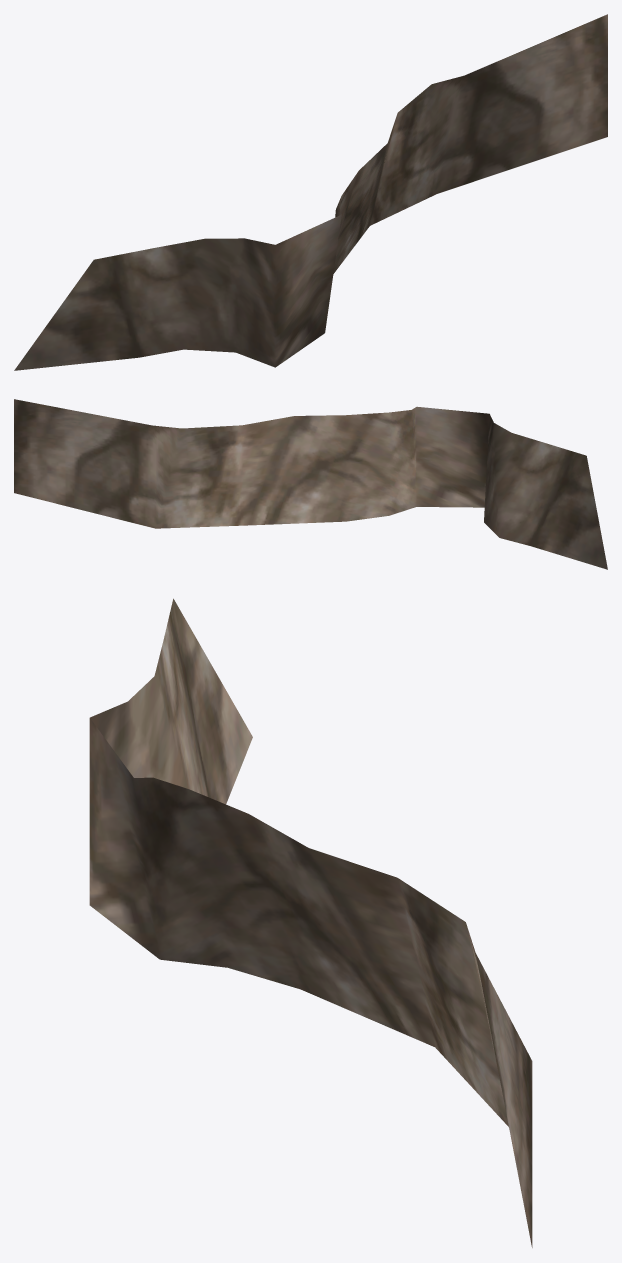
Rendered from EKH_THRONE_PS_TH_RIVER_TRIM_004.fbx.
The picture shows the model from 3 angles, top to bottom: view 1: azimuth 30°, elevation 25°; view 2: azimuth 150°, elevation 25°; view 3: azimuth 270°, elevation 25°; orthographic projection. The views are drawn at different scales.
Parts seen in each view (by area): view 1: EKH_THRONE_PS_TH_RIVER_TRIM_004; view 2: EKH_THRONE_PS_TH_RIVER_TRIM_004; view 3: EKH_THRONE_PS_TH_RIVER_TRIM_004.
Part boxes in pixels (x1,y1,x2,y2): EKH_THRONE_PS_TH_RIVER_TRIM_004: [14, 14, 607, 370]; EKH_THRONE_PS_TH_RIVER_TRIM_004: [14, 399, 607, 569]; EKH_THRONE_PS_TH_RIVER_TRIM_004: [89, 598, 532, 1247].
Bounding box in the file's own units: 52117 × 9541 × 19048.
Materials: 1 (1 with a texture image).
